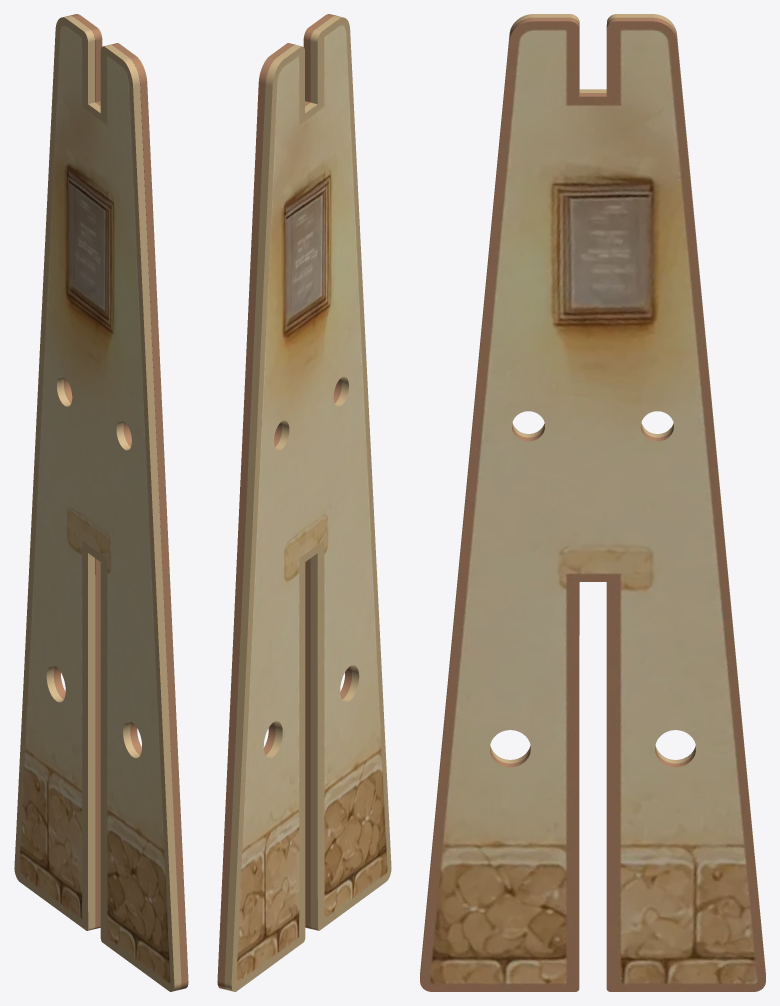
File: connector-stabilizer-03.glb
3 views of the same model, side by side, from view 1: azimuth 30°, elevation 25°; view 2: azimuth 150°, elevation 25°; view 3: azimuth 270°, elevation 25° (orthographic). The views are drawn at different scales.
Parts seen in each view (by area): view 1: connector-stabilizer-03; view 2: connector-stabilizer-03; view 3: connector-stabilizer-03.
Boxes of the visible parts, box(x1,y1,x2,y2) form: connector-stabilizer-03: box(14, 14, 188, 991); connector-stabilizer-03: box(217, 14, 391, 991); connector-stabilizer-03: box(420, 14, 765, 991).
Bounding box in the file's own units: 18 × 1095 × 354.
4 materials, 2 textured.
